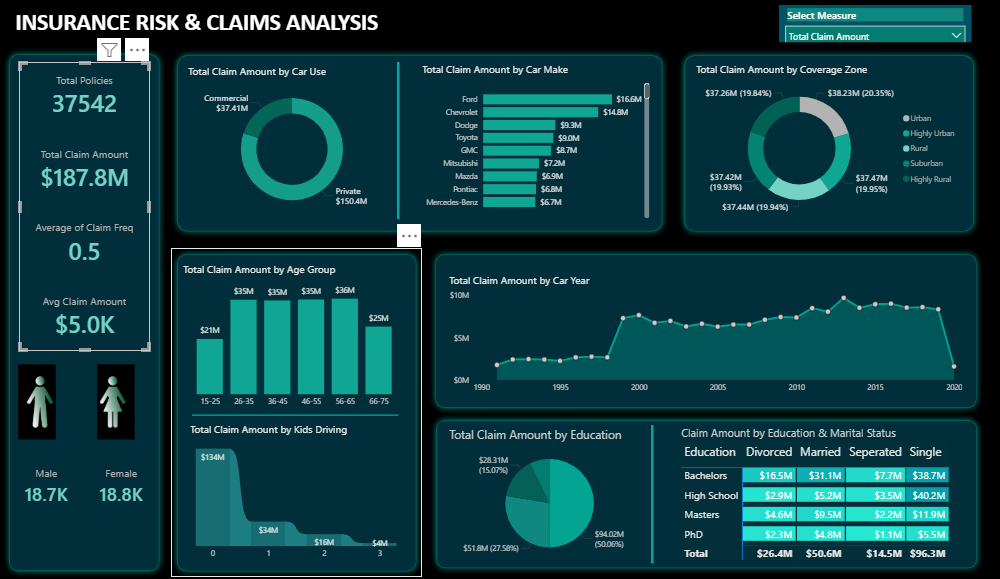

The page's visual inventory and layout, read from the dashboard file:
{"tool":"powerbi","page":{"name":"Page 1","canvas":[1600,950],"ordinal":0},"visuals":[{"type":"textbox","box":[25.5,22.7,613.6,69.1],"z":0},{"type":"shape","box":[10.4,91.9,258.3,840.8],"z":1000},{"type":"cardVisual","fields":{"Data":["insurance_data_car.Total Policies","insurance_data_car.Total Claim Amount","Avg(insurance_data_car.Claim Freq)","insurance_data_car.Avg Claim Amount"]},"box":[36.4,114.4,208,459.4],"z":2000},{"type":"cardVisual","fields":{"Data":["insurance_data_car.Male","insurance_data_car.Female"]},"box":[26,731.6,228.8,110.9],"z":3000},{"type":"image","box":[0,589.4,130,130],"z":4000},{"type":"image","box":[124.8,589.4,130,130],"z":5000},{"type":"slicer","fields":{"Values":["Select Measure.Select Measure"]},"box":[1244.4,23.3,305.6,58.9],"z":6000},{"type":"shape","box":[277.4,93.6,790.5,299.9],"z":7000},{"type":"donutChart","fields":{"Y":["insurance_data_car.Total Claim Amount"],"Category":["insurance_data_car.Car Use"]},"box":[299.9,117.9,339.8,249.6],"z":8000},{"type":"clusteredBarChart","fields":{"Y":["insurance_data_car.Total Claim Amount"],"Category":["insurance_data_car.Car Make"]},"box":[672.6,114.4,371,253.1],"z":9000},{"type":"shape","box":[1083.6,93.6,480,300],"z":10000},{"type":"donutChart","fields":{"Y":["insurance_data_car.Total Claim Amount"],"Category":["insurance_data_car.Coverage Zone"]},"box":[1107.8,114.4,430,253.1],"z":11000},{"type":"shape","box":[277.4,409.1,400,523.5],"z":12000},{"type":"clusteredColumnChart","fields":{"Y":["insurance_data_car.Total Claim Amount"],"Category":["insurance_data_car.Age Group"]},"box":[293,431.7,364,240],"z":13000},{"type":"ribbonChart","fields":{"Y":["insurance_data_car.Total Claim Amount"],"Category":["insurance_data_car.Kids Driving"]},"box":[303.4,686.5,346.7,227.1],"z":14000},{"type":"shape","box":[688,410,880,264],"z":15000},{"type":"areaChart","fields":{"Y":["insurance_data_car.Total Claim Amount"],"Category":["insurance_data_car.Car Year"]},"box":[714.2,449,825,200],"z":16000},{"type":"shape","box":[690,674.4,878.9,254.8],"z":17000},{"type":"pieChart","fields":{"Y":["insurance_data_car.Total Claim Amount"],"Category":["insurance_data_car.Education"]},"box":[714.2,693.4,329.4,220.2],"z":18000},{"type":"pivotTable","title":"Claim Amount by Education & Marital Status","fields":{"Columns":["insurance_data_car.Marital Status"],"Rows":["insurance_data_car.Education"],"Values":["insurance_data_car.Total Claim Amount"]},"box":[1083.5,691.7,457.7,220.2],"z":19000},{"type":"shape","box":[312,655.3,327.6,41.6],"z":20000},{"type":"shape","box":[605,114.4,67.6,249.6],"z":21000},{"type":"shape","box":[1008.9,691.7,67.6,220.2],"z":22000}]}

Visuals, with their boxes in screenshot pixels (x1, y1, x2, y2), scaled from the page's 1600x950 canvas onto the 1000x579 screenshot:
textbox: (left=16, top=14, right=399, bottom=56)
shape: (left=6, top=56, right=168, bottom=568)
cardVisual - insurance_data_car.Total Policies x insurance_data_car.Total Claim Amount: (left=23, top=70, right=153, bottom=350)
cardVisual - insurance_data_car.Male x insurance_data_car.Female: (left=16, top=446, right=159, bottom=513)
image: (left=0, top=359, right=81, bottom=438)
image: (left=78, top=359, right=159, bottom=438)
slicer - Select Measure.Select Measure: (left=778, top=14, right=969, bottom=50)
shape: (left=173, top=57, right=667, bottom=240)
donutChart - insurance_data_car.Total Claim Amount x insurance_data_car.Car Use: (left=187, top=72, right=400, bottom=224)
clusteredBarChart - insurance_data_car.Total Claim Amount x insurance_data_car.Car Make: (left=420, top=70, right=652, bottom=224)
shape: (left=677, top=57, right=977, bottom=240)
donutChart - insurance_data_car.Total Claim Amount x insurance_data_car.Coverage Zone: (left=692, top=70, right=961, bottom=224)
shape: (left=173, top=249, right=423, bottom=568)
clusteredColumnChart - insurance_data_car.Total Claim Amount x insurance_data_car.Age Group: (left=183, top=263, right=411, bottom=409)
ribbonChart - insurance_data_car.Total Claim Amount x insurance_data_car.Kids Driving: (left=190, top=418, right=406, bottom=557)
shape: (left=430, top=250, right=980, bottom=411)
areaChart - insurance_data_car.Total Claim Amount x insurance_data_car.Car Year: (left=446, top=274, right=962, bottom=396)
shape: (left=431, top=411, right=981, bottom=566)
pieChart - insurance_data_car.Total Claim Amount x insurance_data_car.Education: (left=446, top=423, right=652, bottom=557)
"Claim Amount by Education & Marital Status" pivotTable: (left=677, top=422, right=963, bottom=556)
shape: (left=195, top=399, right=400, bottom=425)
shape: (left=378, top=70, right=420, bottom=222)
shape: (left=631, top=422, right=673, bottom=556)
